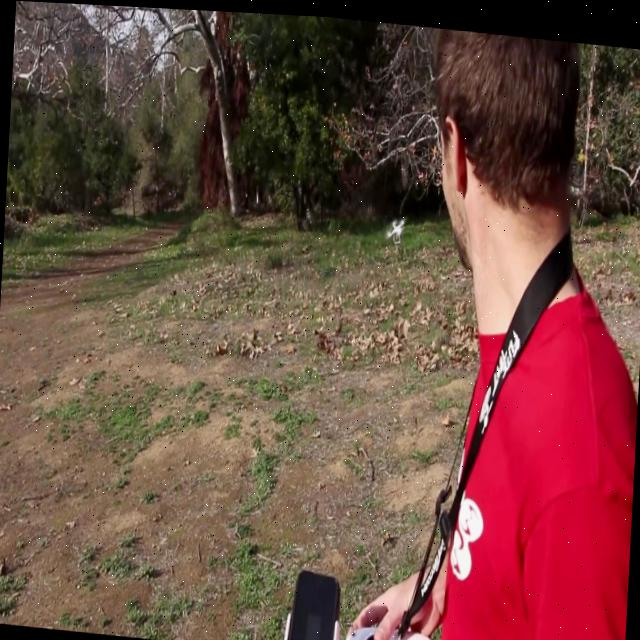drone: (386, 212, 406, 241)
